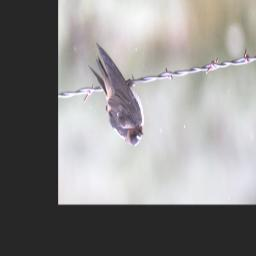Swallow: (87, 42, 145, 148)
